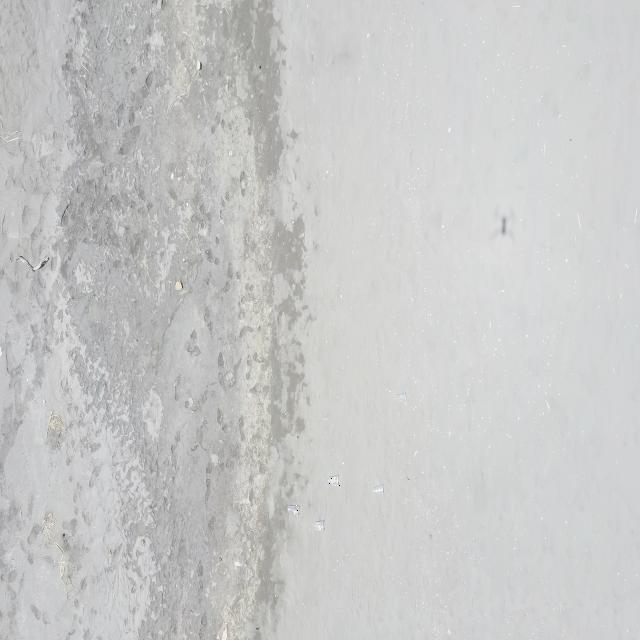takeaway-cup: (326, 474, 340, 488), (313, 519, 326, 532), (395, 391, 407, 404), (288, 504, 300, 516), (374, 483, 384, 495)
